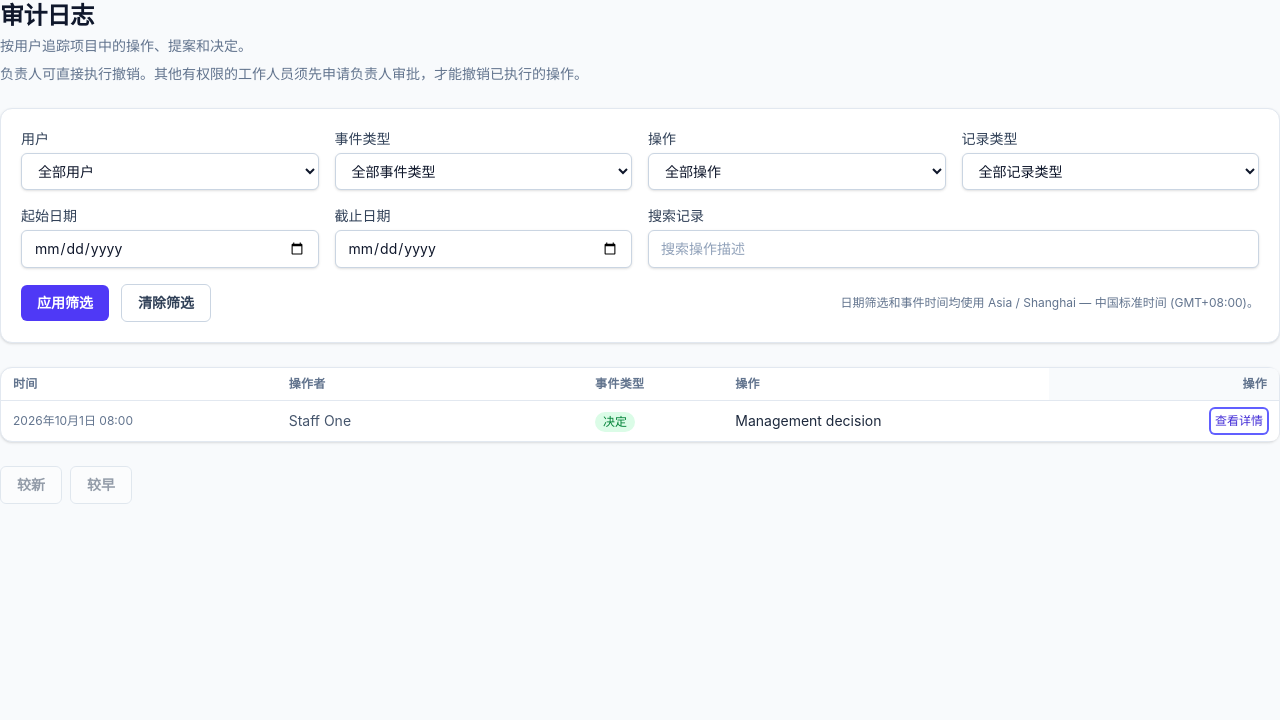
renders the audit summary and detail from the observer projection in zh
Expected: the text "Management decision" is shown, [735,412,882,429]
Click the button "查看详情".
click(1239, 421)  # box [1211,409,1267,433]
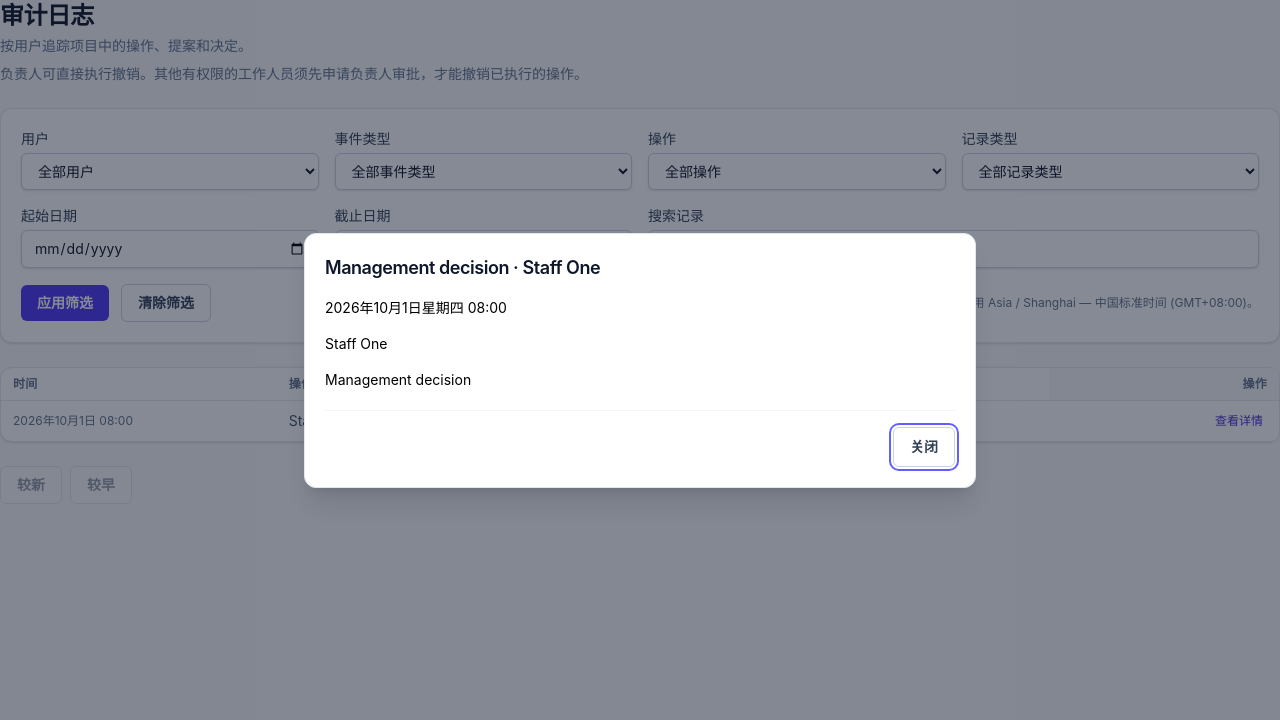
Expected: the text "Management decision" is shown, [325,370,471,388]
Click the button "关闭".
click(924, 446)  # box [893,426,955,466]
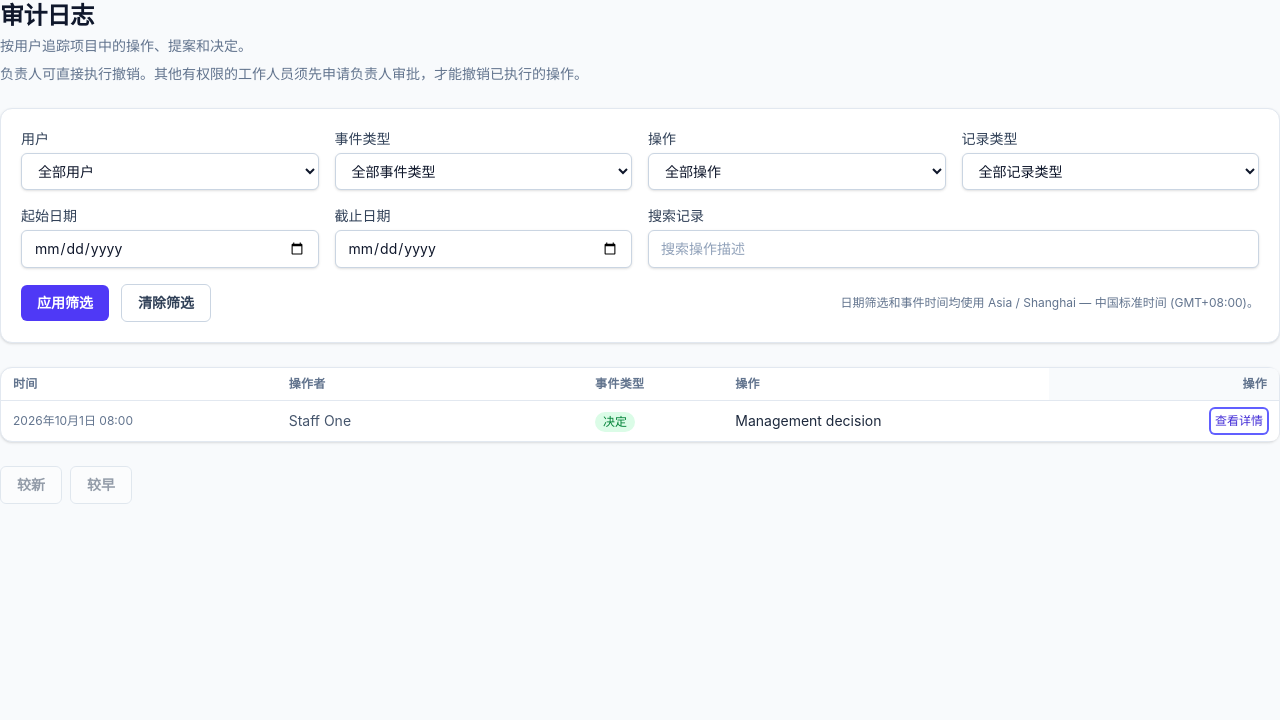
Expected: the dialog is gone
